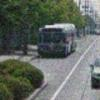buses: (38, 23, 77, 58)
